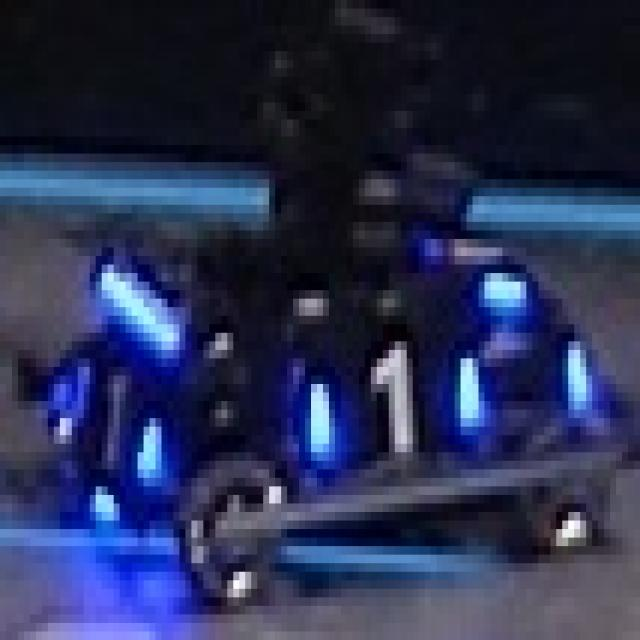B1: (293, 342, 491, 469), (66, 358, 161, 486)
